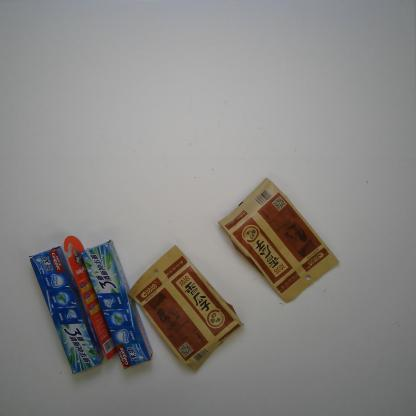Dried Food: (215, 177, 341, 307), (127, 245, 244, 372)
Personal Hygiene: (26, 244, 104, 378), (81, 239, 153, 370), (62, 232, 121, 360)
